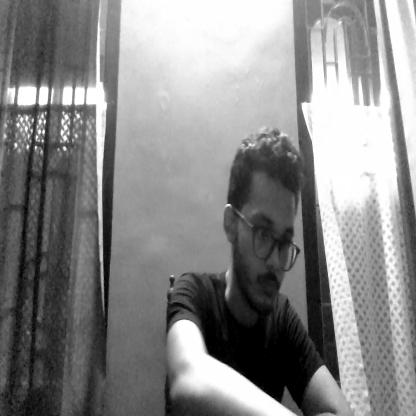Distracted: (225, 124, 306, 332)
